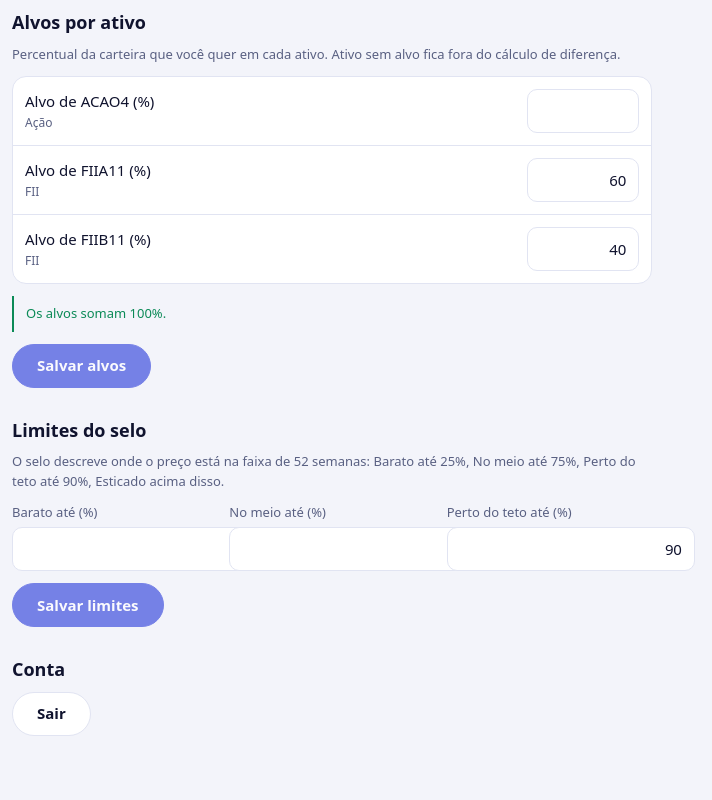
Test case: Configurações: limites do selo › valor  num limite é recusado (vazio não vira 0)
Clear the field labelled "Barato até (%)" at (136, 549), box [12,527,260,571]
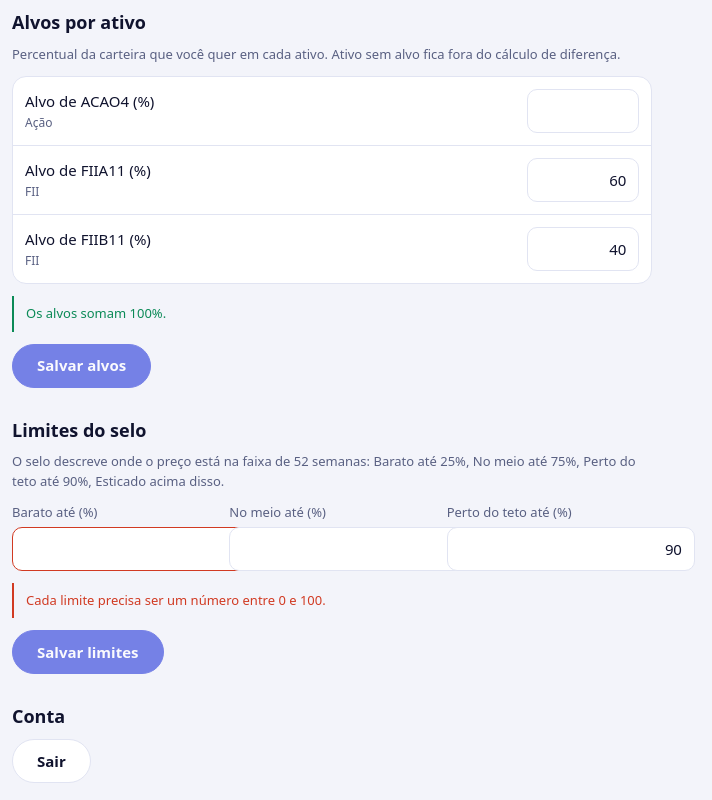
Expected: the button "Salvar limites" is disabled, [12,630,164,674]
Expected: the message "Cada limite precisa ser um número entre 0 e 100." is shown, [12,583,652,618]
